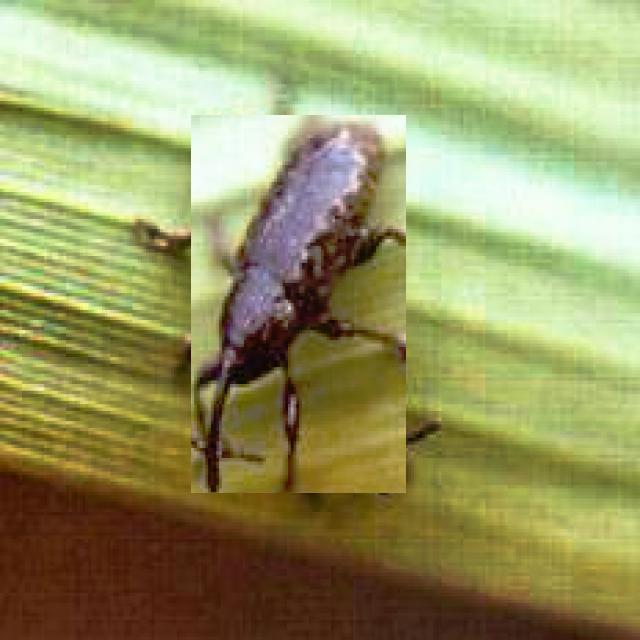rice-bug: (191, 115, 406, 493)
